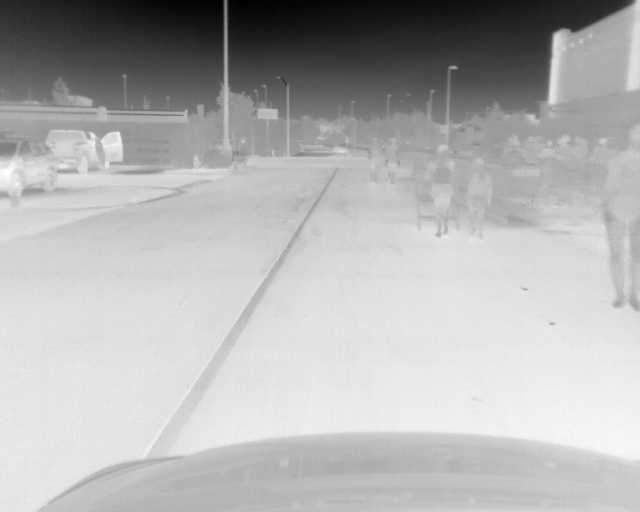car: (44, 127, 124, 174), (1, 136, 59, 196), (332, 144, 347, 156)
people: (601, 125, 640, 309), (426, 143, 454, 238), (466, 159, 494, 240), (591, 135, 613, 220), (556, 134, 574, 204), (540, 138, 555, 206), (367, 137, 384, 185), (384, 138, 401, 184), (501, 135, 524, 166), (93, 136, 106, 167)
